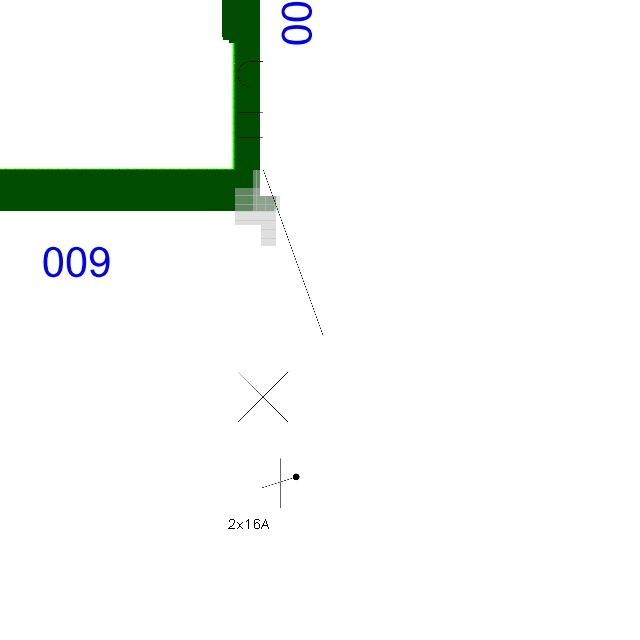interruptor_termomagnetico: (227, 19, 334, 458)
